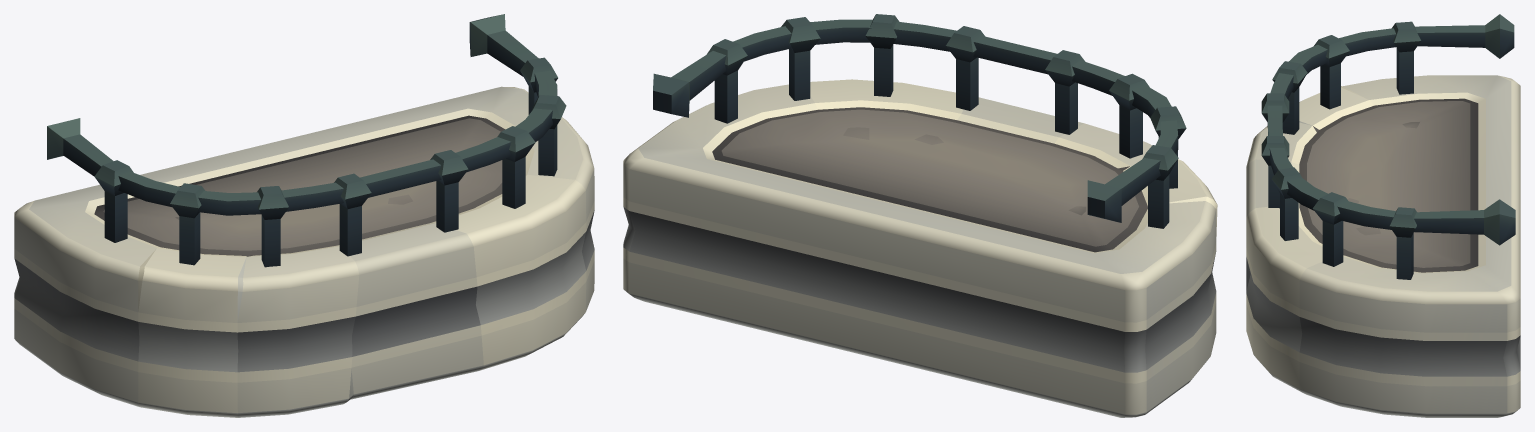
The model's file is balcony2_LOD_setup.fbx.
The picture shows the model from 3 angles, left to right: view 1: azimuth 30°, elevation 25°; view 2: azimuth 150°, elevation 25°; view 3: azimuth 270°, elevation 25°; orthographic projection. The views are drawn at different scales.
Visible parts, largest first — view 1: balcony2_LOD0; view 2: balcony2_LOD0; view 3: balcony2_LOD0.
Part boxes in pixels (<box>): balcony2_LOD0: <box>14,14,594,417</box>; balcony2_LOD0: <box>623,14,1217,417</box>; balcony2_LOD0: <box>1246,14,1520,417</box>.
Size of what is drawn, in the model's own units: 408 by 167 by 211.
